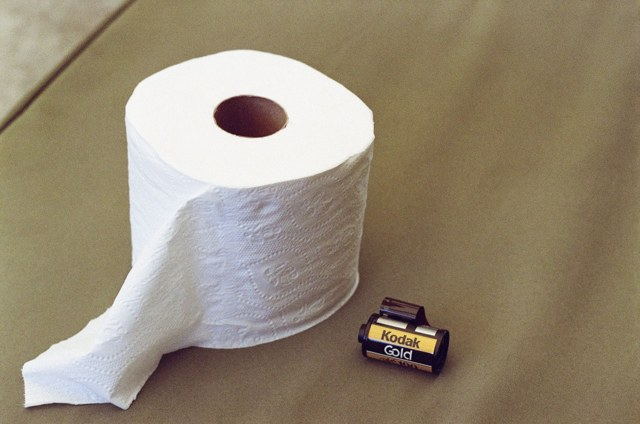toilet_paper: (22, 50, 375, 410)
